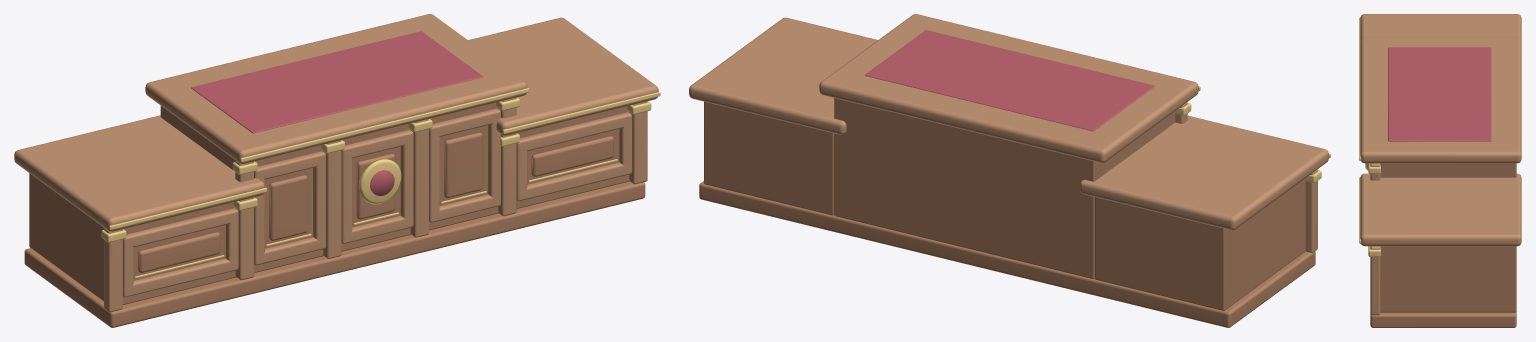
File: judge_bench.glb
3 views of the same model, side by side, from view 1: azimuth 30°, elevation 25°; view 2: azimuth 150°, elevation 25°; view 3: azimuth 270°, elevation 25° (orthographic). The views are drawn at different scales.
Parts seen in each view (by area): view 1: ctop, w-1top, inset, w1top, w-1body, cbody, cplinth, w-1plinth, w1plinth, w1body, cp0field, cp2field (+36 smaller); view 2: cbody, ctop, w-1body, w-1top, inset, w1top, w1body, cplinth, w-1plinth, w1plinth, w-1pil-1.00; view 3: w1top, ctop, inset, w1body, w-1top, w1plinth, cbody, w1pil1.00, ctopedge, w1topedge.
Boxes of the visible parts, x1,y1,x2,y2 form: ctop: [145, 14, 527, 163]; w-1top: [14, 115, 264, 231]; inset: [191, 31, 483, 133]; w1top: [468, 17, 658, 135]; w-1body: [29, 173, 236, 304]; cbody: [160, 102, 498, 272]; cplinth: [244, 213, 512, 295]; w-1plinth: [24, 248, 250, 327]; w1plinth: [506, 181, 645, 231]; w1body: [516, 106, 629, 208]; cp0field: [269, 175, 307, 240]; cp2field: [444, 132, 482, 198]; cbody: [834, 98, 1175, 279]; ctop: [819, 14, 1198, 162]; w-1body: [1094, 178, 1305, 310]; w-1top: [1080, 115, 1328, 230]; inset: [864, 30, 1154, 131]; w1top: [689, 17, 877, 134]; w1body: [704, 101, 834, 215]; cplinth: [831, 215, 1096, 295]; w-1plinth: [1091, 251, 1315, 327]; w1plinth: [699, 181, 836, 232]; w-1pil-1.00: [1305, 169, 1317, 252]; w1top: [1360, 173, 1521, 246]; ctop: [1360, 37, 1521, 163]; inset: [1388, 47, 1491, 141]; w1body: [1380, 246, 1516, 312]; w-1top: [1360, 14, 1521, 40]; w1plinth: [1370, 311, 1516, 327]; cbody: [1380, 163, 1516, 177]; w1pil1.00: [1370, 246, 1380, 315]; ctopedge: [1359, 41, 1361, 160]; w1topedge: [1359, 177, 1361, 243].
Bounding box in the file's own units: 2.1 × 0.554 × 0.644.
